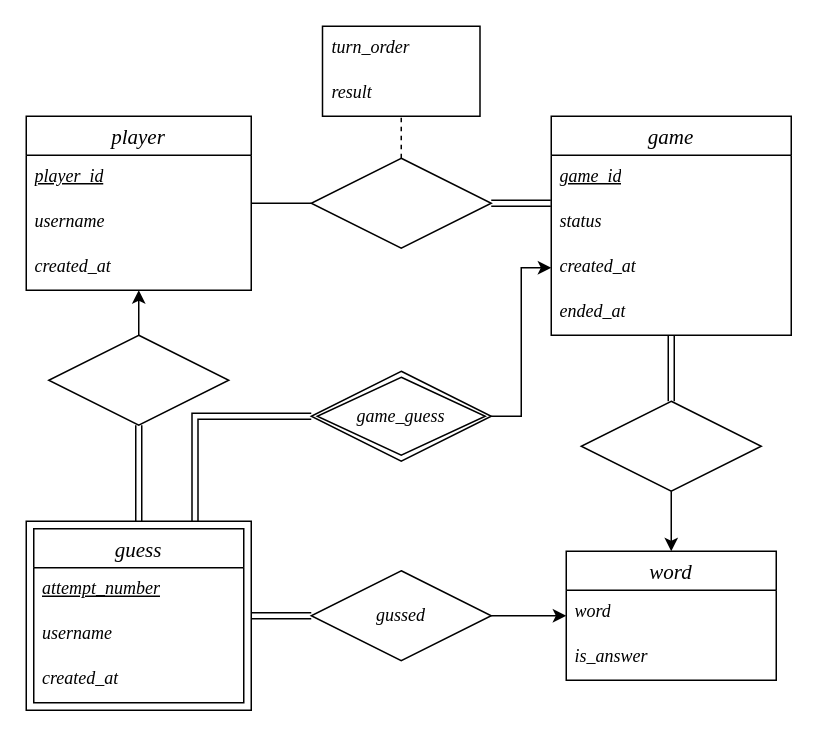
Image size: 818x737. Some labels were removed from this diagram. Each missing label, with the centre of its shape:
answer: point (670, 445)
makes: point (138, 379)
plays: point (400, 202)
